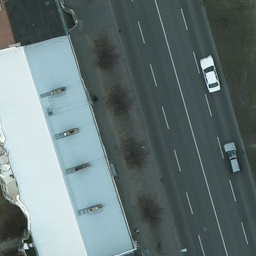car: (199, 55, 220, 94), (224, 142, 242, 174)
